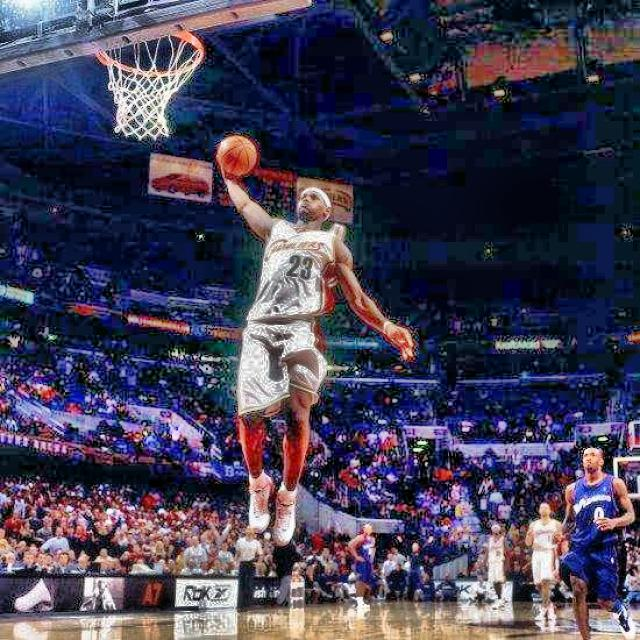board: (218, 137, 257, 175)
rim: (98, 29, 205, 137)
